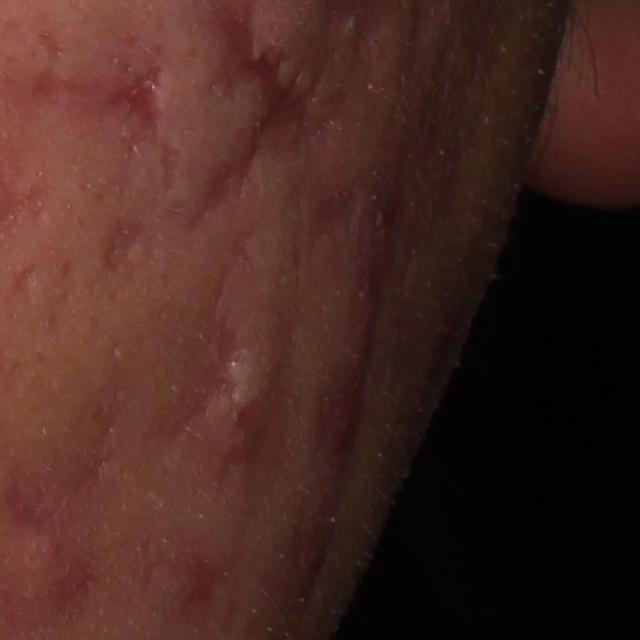atrophic_scar: (156, 223, 259, 445), (214, 364, 305, 511), (27, 62, 167, 146), (178, 554, 233, 617), (101, 212, 148, 276), (10, 264, 38, 308), (34, 27, 67, 63)
hypertrophic_scar: (205, 345, 270, 438)
